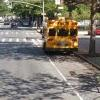Bus: (38, 12, 83, 58)
